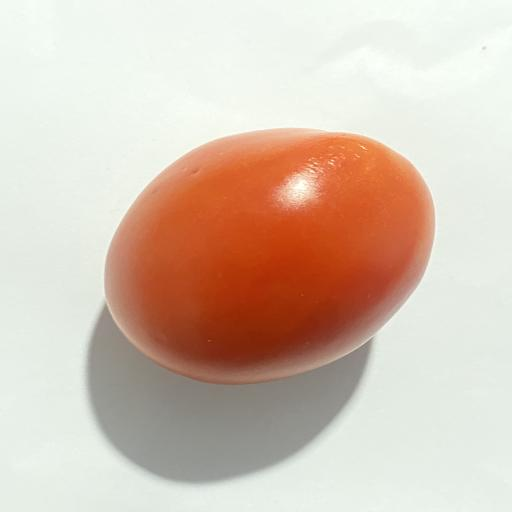overipe: (105, 129, 434, 384)
